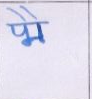o_matra: (32, 10, 47, 43)
